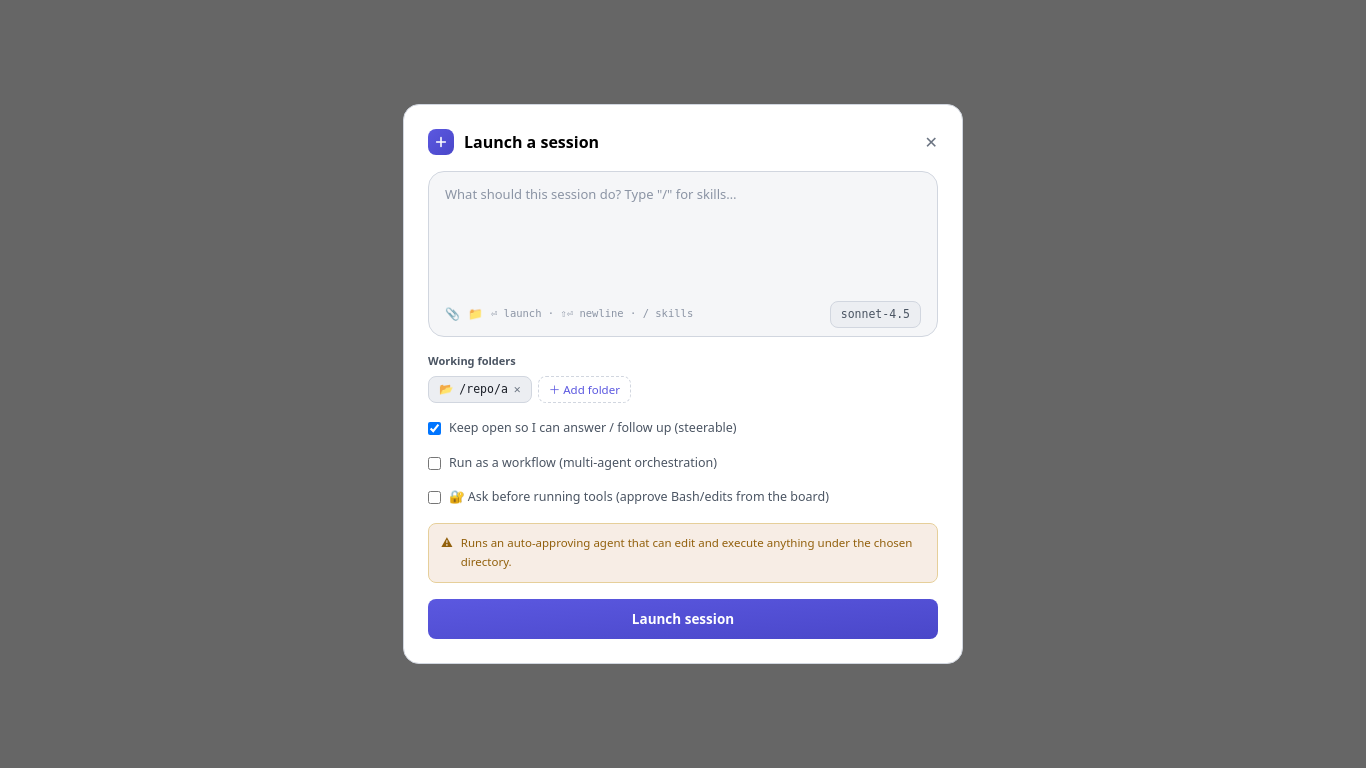
Test: typing "/" in the prompt opens the skill suggestion menu from the catalog
The width and height of the screenshot is (1366, 768).
Type "/bra" into the text box with test id "launch-task-input" at (683, 237), box [445,184,921,290]
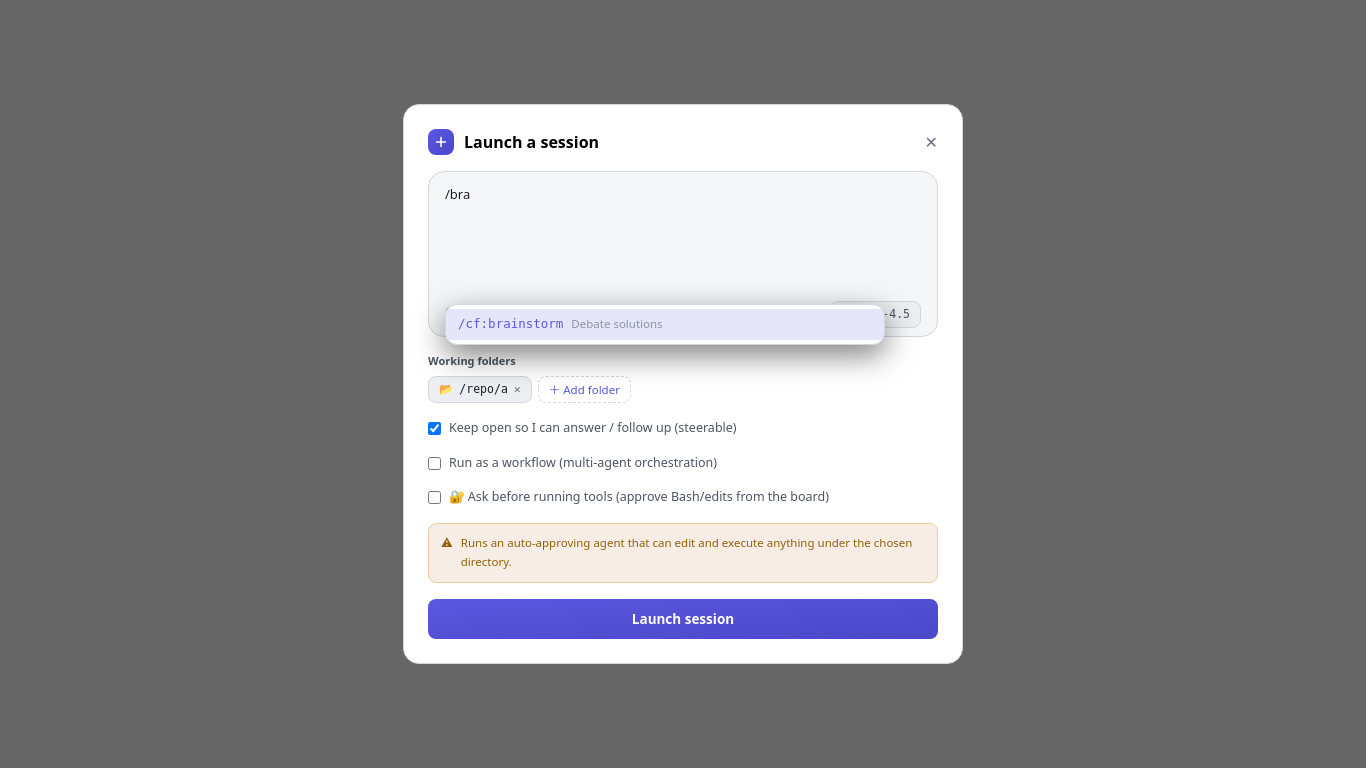
Result: the option with test id "slash-option-brainstorm" is shown at [446,309,884,340]
